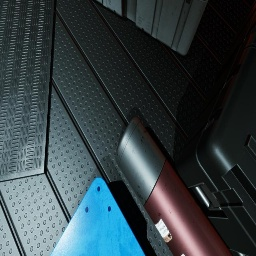NitrogenTank ,: (115, 116, 234, 256)
